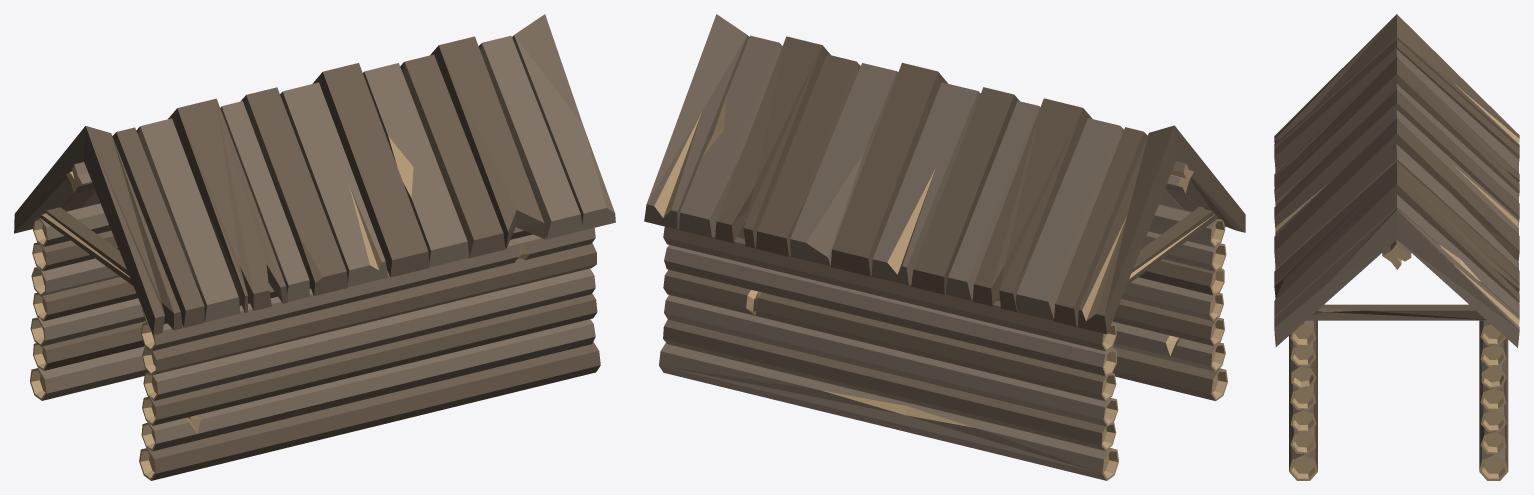
Rendered from _wood_house.fbx.
3 views of the same model, side by side, from view 1: azimuth 30°, elevation 25°; view 2: azimuth 150°, elevation 25°; view 3: azimuth 270°, elevation 25° (orthographic). The views are drawn at different scales.
Visible parts, largest first — view 1: _wood_house:wood_house; view 2: _wood_house:wood_house; view 3: _wood_house:wood_house.
Part boxes in pixels (left/top/right/bottom): _wood_house:wood_house: left=14, top=14, right=615, bottom=480; _wood_house:wood_house: left=644, top=14, right=1245, bottom=480; _wood_house:wood_house: left=1274, top=14, right=1519, bottom=480.
Size of the model in its own units: 948 by 596 by 483.
